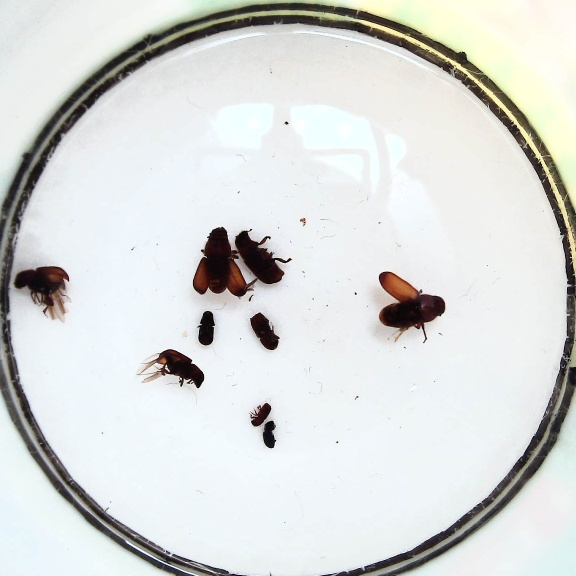acuminatus: (249, 400, 272, 426)
armandi: (195, 310, 216, 347)
coleoptera: (262, 421, 279, 451)
leconte: (373, 272, 446, 341), (192, 225, 247, 299), (9, 264, 68, 321), (237, 228, 293, 285), (136, 349, 205, 393)
linnaeus: (249, 309, 280, 351)
